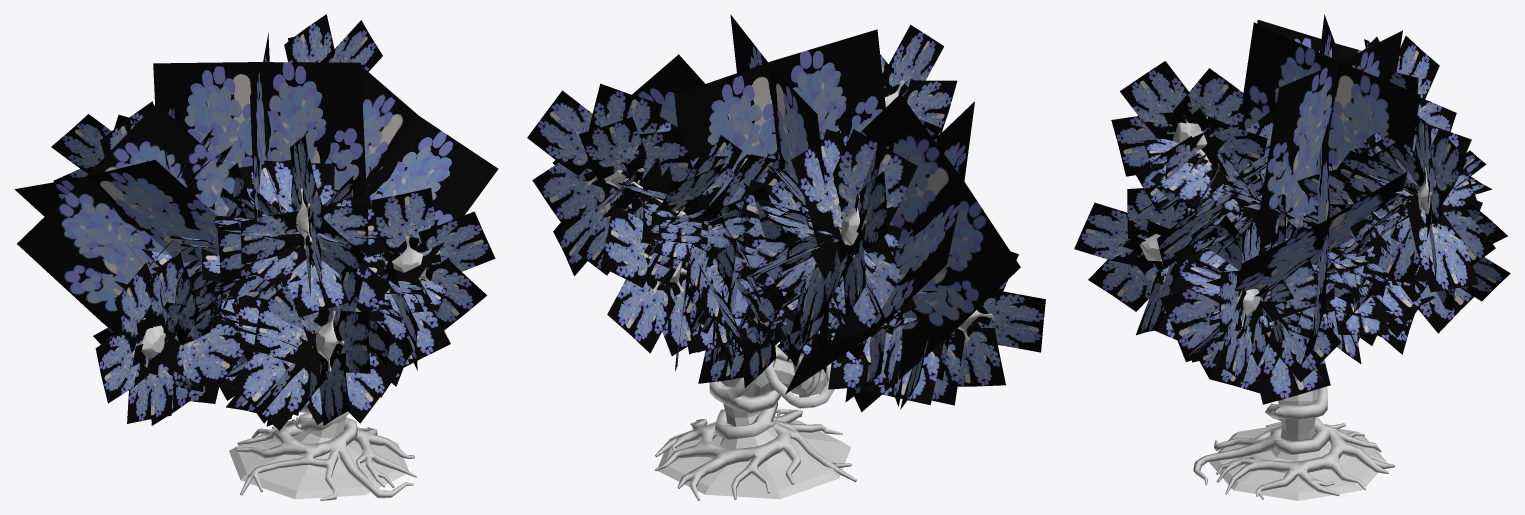
The model's file is CrystalTree.fbx.
3 renders of one model, left to right at view 1: azimuth 30°, elevation 25°; view 2: azimuth 150°, elevation 25°; view 3: azimuth 270°, elevation 25°, orthographic. The views are drawn at different scales.
Parts seen in each view (by area): view 1: Leaves, Tree; view 2: Leaves, Tree; view 3: Leaves, Tree.
Boxes of the visible parts, bbox=[...] form: Leaves: bbox=[14, 14, 498, 430]; Tree: bbox=[131, 188, 439, 500]; Leaves: bbox=[527, 14, 1045, 412]; Tree: bbox=[584, 80, 992, 500]; Leaves: bbox=[1074, 14, 1510, 404]; Tree: bbox=[1128, 111, 1432, 500].
Size of the model in its own units: 3173 by 2779 by 2732.
